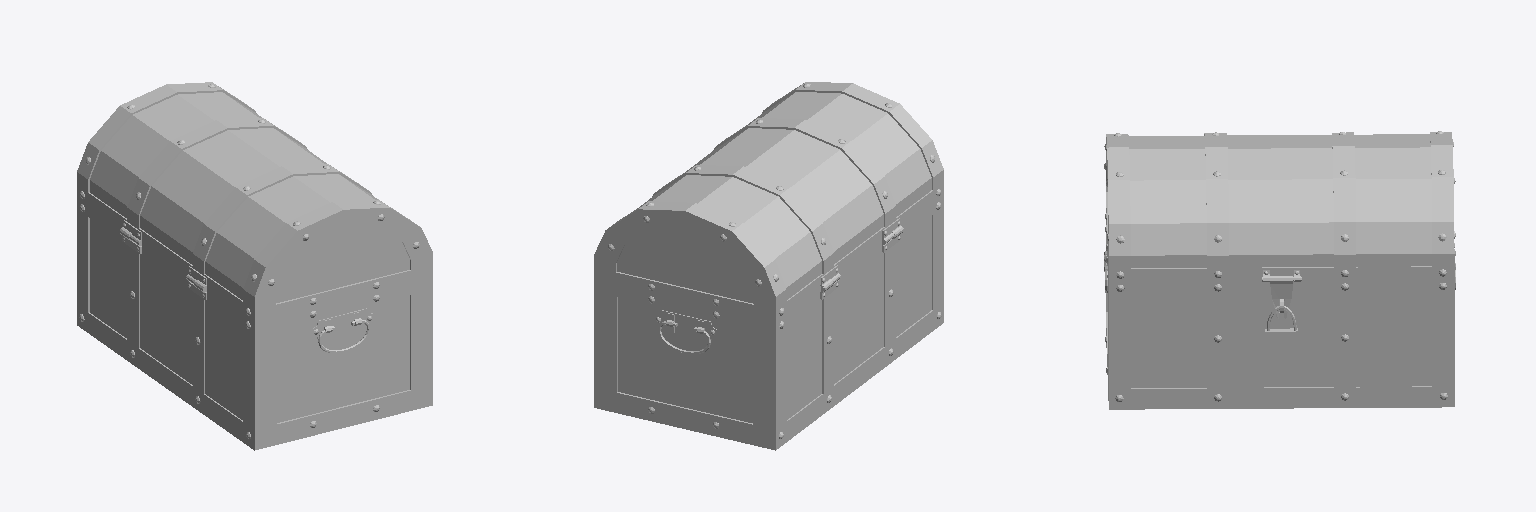
The model's file is baul.obj.
The picture shows the model from 3 angles: view 1: azimuth 30°, elevation 25°; view 2: azimuth 150°, elevation 25°; view 3: azimuth 270°, elevation 25°; orthographic projection.
Parts seen in each view (by area): view 1: chest_Mesh; view 2: chest_Mesh; view 3: chest_Mesh.
Boxes of the visible parts, <box> form: chest_Mesh: <box>77,82,432,450</box>; chest_Mesh: <box>594,82,943,450</box>; chest_Mesh: <box>1104,131,1455,409</box>.
Size of the model in its own units: 8.18 by 8.83 by 12.94.